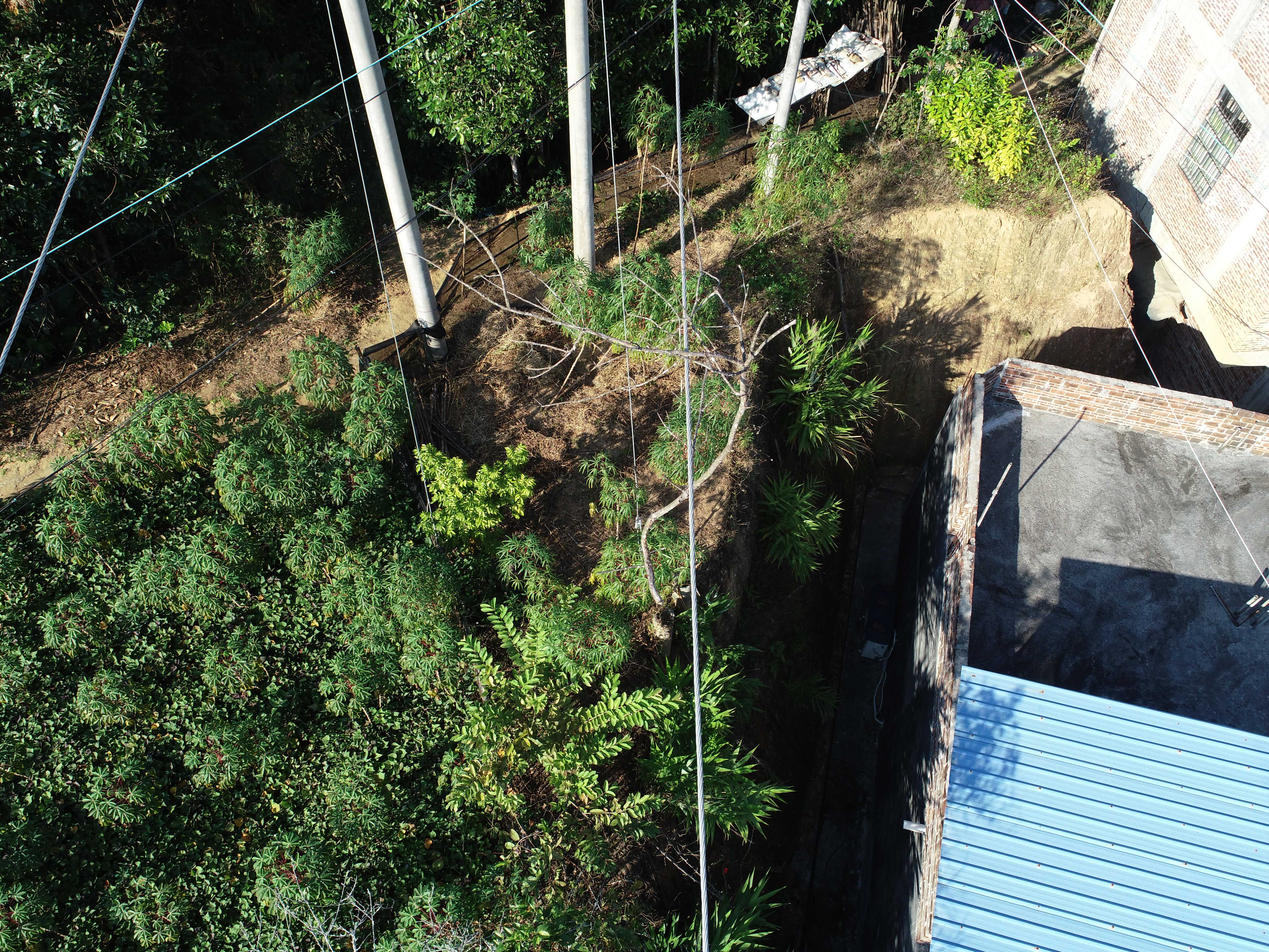异物: (404, 135, 798, 606)
